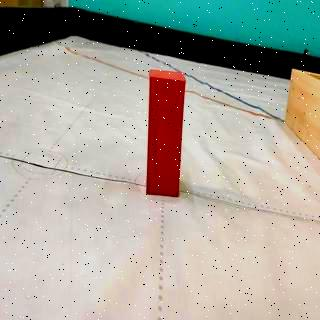redbox: (146, 68, 186, 198)
